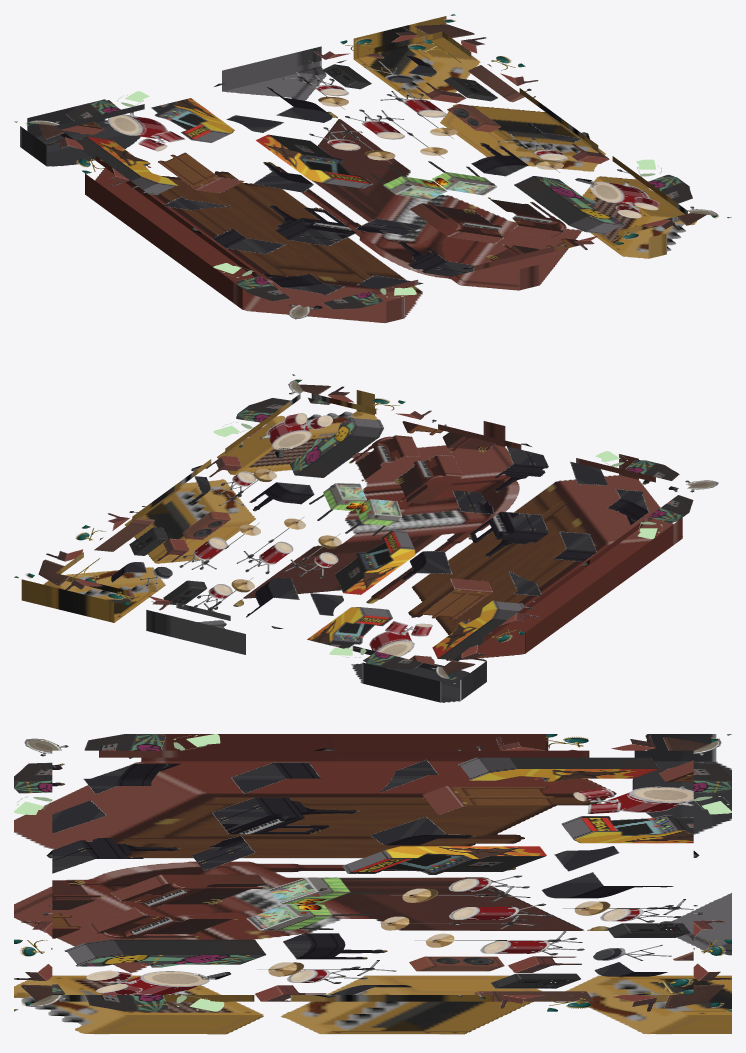
3 renders of one model, top to bottom at view 1: azimuth 30°, elevation 25°; view 2: azimuth 150°, elevation 25°; view 3: azimuth 270°, elevation 25°, orthographic. The views are drawn at different scales.
Bounding box in the file's own units: 0.8727 × 0.04 × 0.9546.
